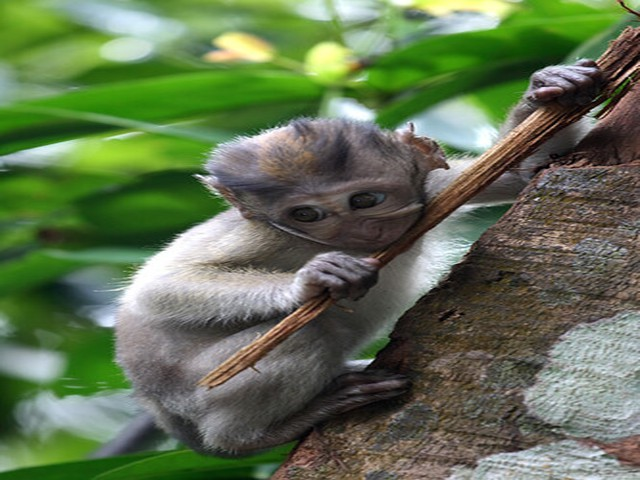Monkey: (89, 106, 499, 451)
